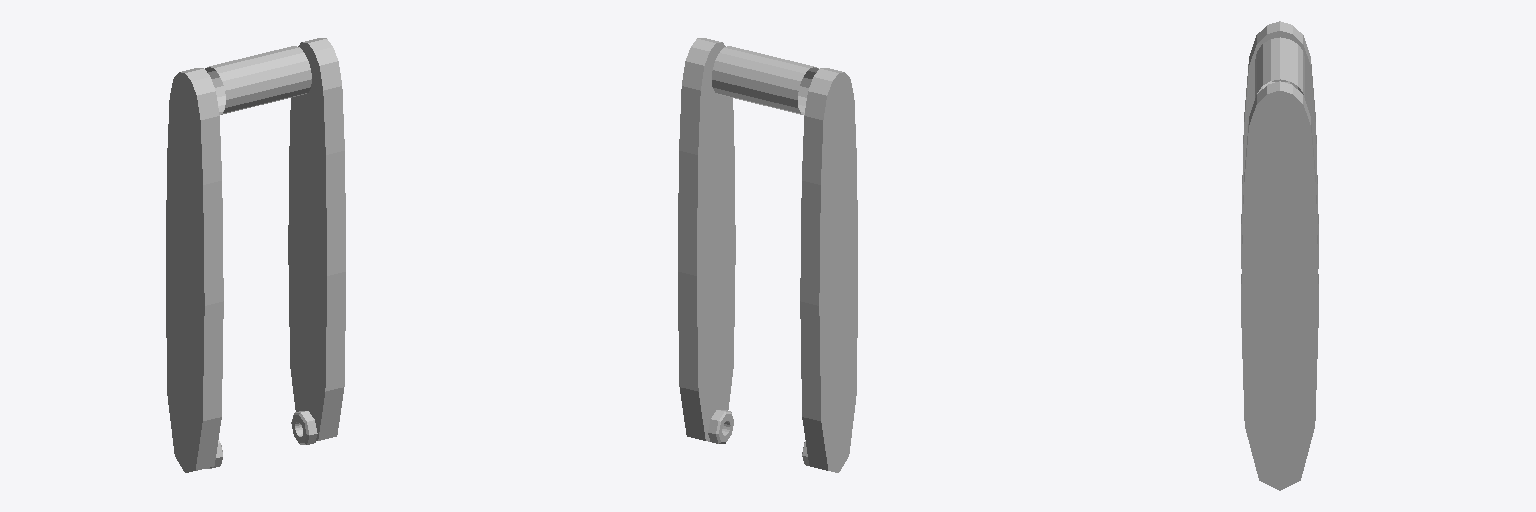
The model's file is robotLower.obj.
The picture shows the model from 3 angles: view 1: azimuth 30°, elevation 25°; view 2: azimuth 150°, elevation 25°; view 3: azimuth 270°, elevation 25°; orthographic projection.
Parts seen in each view (by area): view 1: polySurface44; view 2: polySurface44; view 3: polySurface44.
Boxes of the visible parts, <box> form: polySurface44: <box>166,38,345,472</box>; polySurface44: <box>678,38,857,472</box>; polySurface44: <box>1241,21,1318,490</box>.
Bounding box in the file's own units: 2.11 × 5.7 × 1.01.